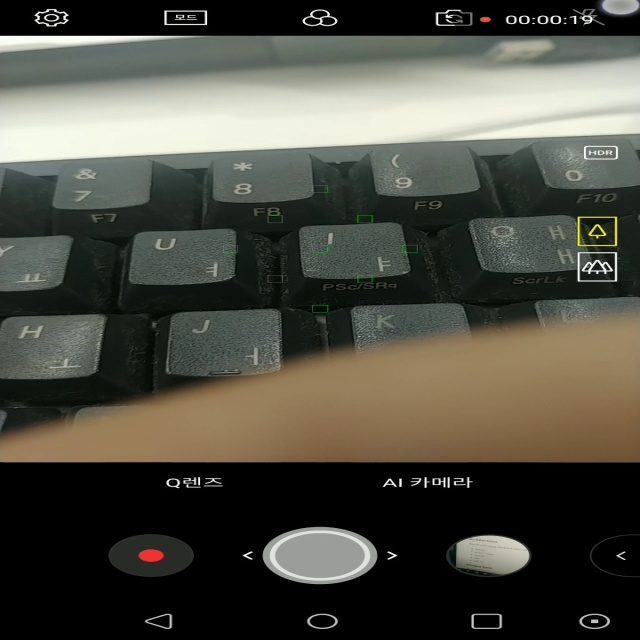Cursor: (598, 1, 640, 17)
